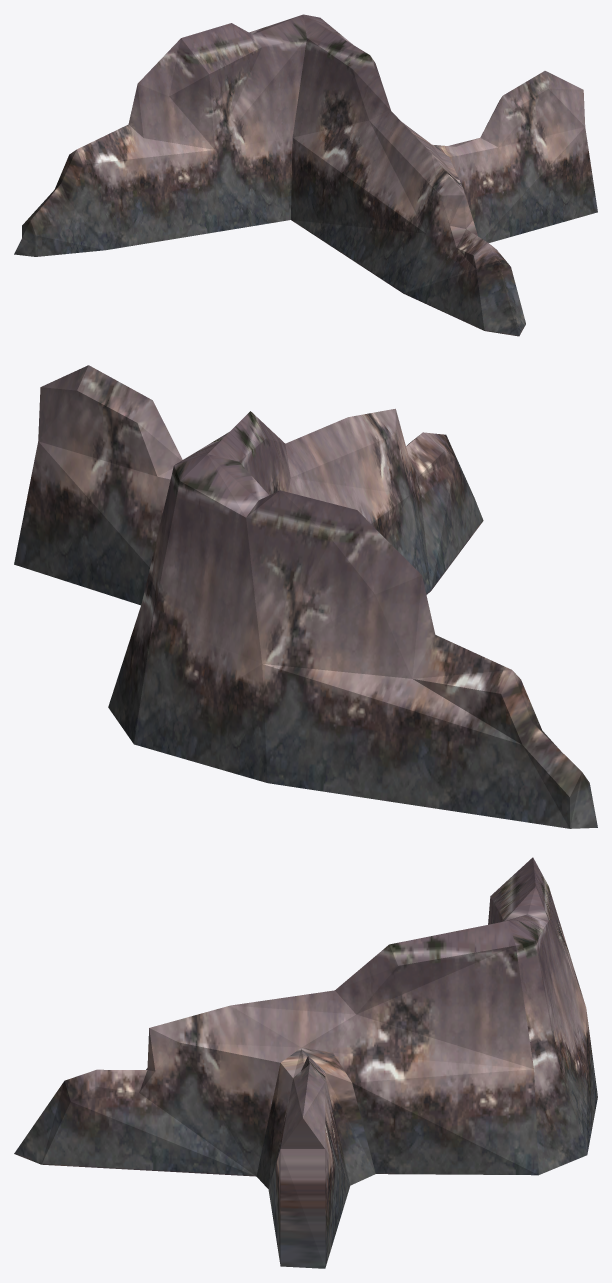
Rendered from C4SMRUIN1_H.obj.
The picture shows the model from 3 angles, top to bottom: view 1: azimuth 30°, elevation 25°; view 2: azimuth 150°, elevation 25°; view 3: azimuth 270°, elevation 25°; orthographic projection. The views are drawn at different scales.
Parts seen in each view (by area): view 1: Node 0; view 2: Node 0; view 3: Node 0.
Boxes of the visible parts, left/top/right/bottom form: Node 0: left=14, top=14, right=597, bottom=336; Node 0: left=14, top=365, right=597, bottom=828; Node 0: left=14, top=857, right=597, bottom=1268.
Size of the model in its own units: 20.18 by 7.16 by 16.98.
Materials: 1 (1 with a texture image).
